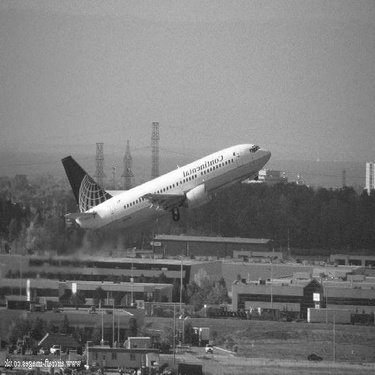airplane: (26, 113, 279, 243)
